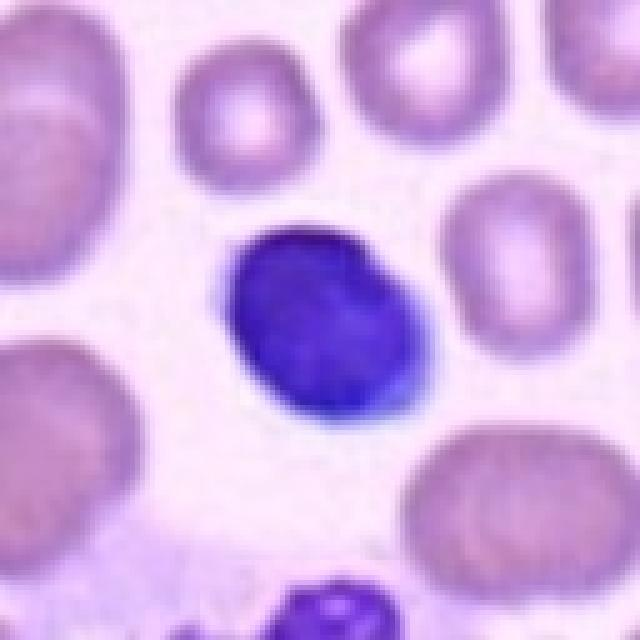lympho: (216, 206, 443, 437)
